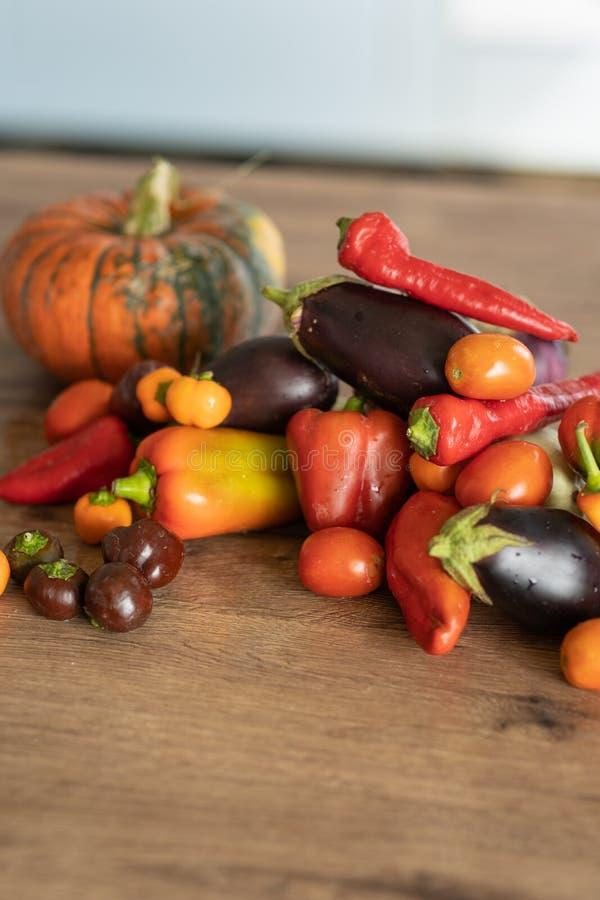bell pepper: (155, 440, 327, 558)
carrot: (43, 378, 113, 441), (560, 617, 600, 693)
pumkin: (0, 157, 317, 348)
